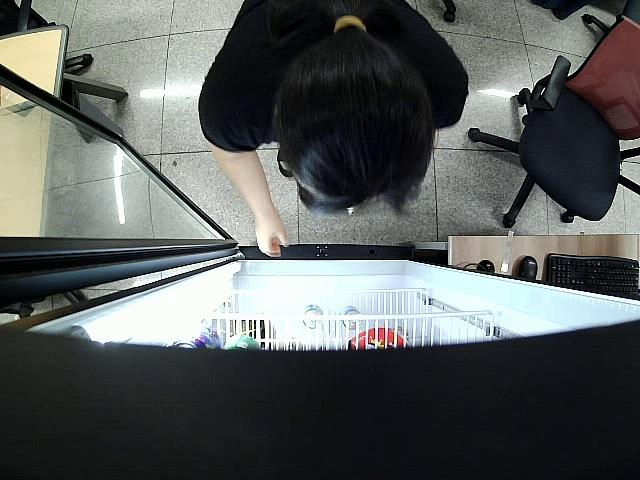00_hand: (255, 212, 292, 258)
